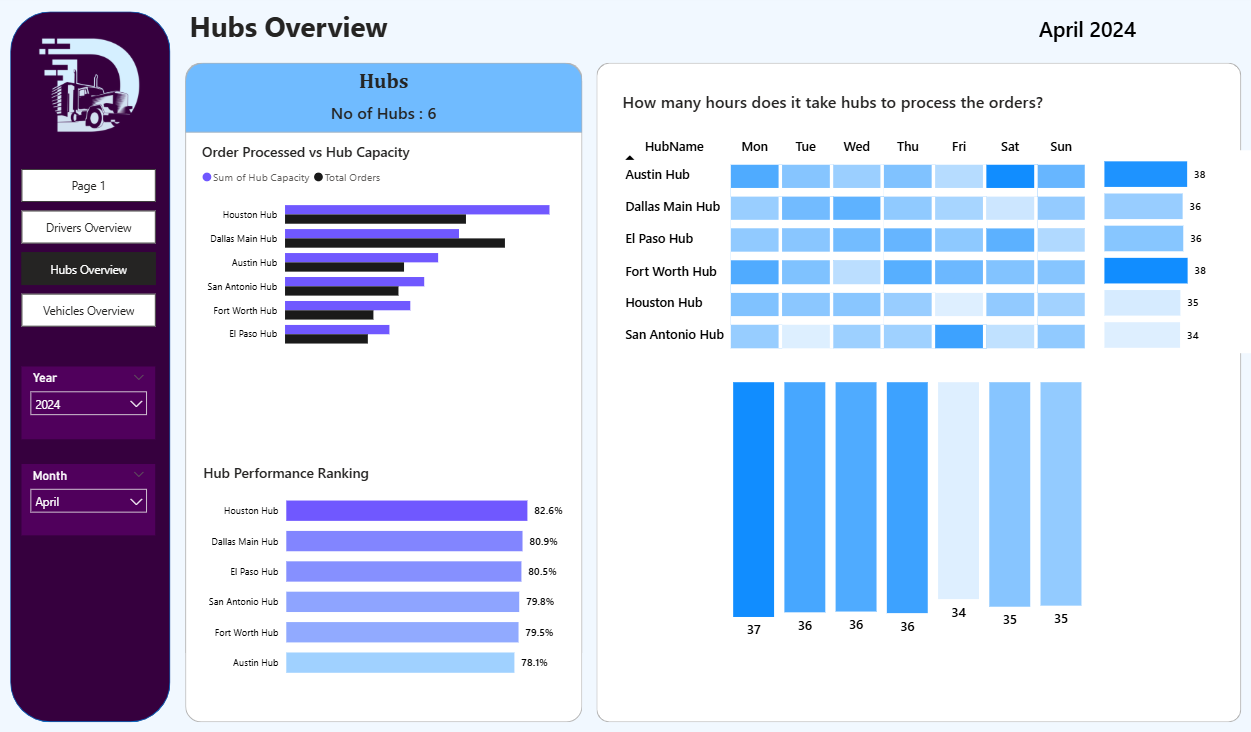

What the dashboard file says about the page in this screenshot:
{"tool":"powerbi","page":{"name":"Hubs Overview ","canvas":[1450,850],"ordinal":2},"visuals":[{"type":"shape","box":[12.4,14,185,820.8],"z":0},{"type":"textbox","box":[214.5,4.7,531.6,68.4],"z":1000},{"type":"slicer","fields":{"Values":["Date Table.Year"]},"box":[26.3,424.7,154.7,84],"z":2000},{"type":"slicer","fields":{"Values":["Date Table.Month"]},"box":[26.3,536.7,154.7,82.3],"z":3000},{"type":"image","box":[26.3,32.9,159.7,141.6],"z":4000},{"type":"cardVisual","fields":{"Data":["Vehicles.Month Year"]},"box":[1183.6,0,233.8,67.5],"z":5000},{"type":"shape","box":[690.2,73.1,744.6,761.7],"z":6000},{"type":"shape","box":[214.5,73.1,458.6,761.7],"z":7000},{"type":"shape","box":[214.5,73.1,458.6,80.8],"z":8000},{"type":"textbox","box":[368.4,74.6,152.3,38.9],"z":9000},{"type":"cardVisual","fields":{"Data":["Hubs.No of Hubs"]},"box":[328,94.8,233.2,70],"z":10000},{"type":"clusteredBarChart","title":"Order Processed vs Hub Capacity","fields":{"Y":["Sum(Hubs.Hub Capacity)","Orders.Total Orders"],"Category":["Hubs.HubName"]},"box":[230.1,164.8,427.5,250.3],"z":11000},{"type":"barChart","title":"Hub Performance Ranking","fields":{"Category":["Hubs.HubName"],"Y":["Orders.On Time Delivered rate"]},"box":[231.6,536.3,427.5,262.7],"z":12000},{"type":"pivotTable","fields":{"Rows":["Hubs.HubName"],"Columns":["Date Table.Day"],"Values":["Orders.Avg Delivery Time (Hrs)"]},"box":[713.5,152.3,558.1,272],"z":13000},{"type":"columnChart","fields":{"Y":["Orders.Avg Delivery Time (Hrs)"],"Category":["Date Table.Day"]},"box":[842.5,429,413.5,318.7],"z":14000},{"type":"barChart","fields":{"Category":["Hubs.HubName"],"Y":["Orders.Avg Delivery Time (Hrs)"]},"box":[1271.3,174.1,178.7,234.3],"z":15000},{"type":"cardVisual","fields":{"Data":["Hubs.Hubs Title"]},"box":[702.9,82.9,532.9,70],"z":16000},{"type":"pageNavigator","box":[26.4,195.9,155.4,185],"z":17000}]}

Visuals, with their boxes on the page's 1450x850 design canvas (x1, y1, x2, y2). These are canvas units, not pixel positions in the 1251x732 screenshot, which may show the page scaled, cropped or inside an application window:
shape: 12/14/197/835
textbox: 214/5/746/73
slicer - Date Table.Year: 26/425/181/509
slicer - Date Table.Month: 26/537/181/619
image: 26/33/186/174
cardVisual - Vehicles.Month Year: 1184/0/1417/68
shape: 690/73/1435/835
shape: 214/73/673/835
shape: 214/73/673/154
textbox: 368/75/521/114
cardVisual - Hubs.No of Hubs: 328/95/561/165
"Order Processed vs Hub Capacity" clusteredBarChart: 230/165/658/415
"Hub Performance Ranking" barChart: 232/536/659/799
pivotTable - Hubs.HubName x Date Table.Day: 714/152/1272/424
columnChart - Orders.Avg Delivery Time (Hrs) x Date Table.Day: 842/429/1256/748
barChart - Hubs.HubName x Orders.Avg Delivery Time (Hrs): 1271/174/1450/408
cardVisual - Hubs.Hubs Title: 703/83/1236/153
pageNavigator: 26/196/182/381
